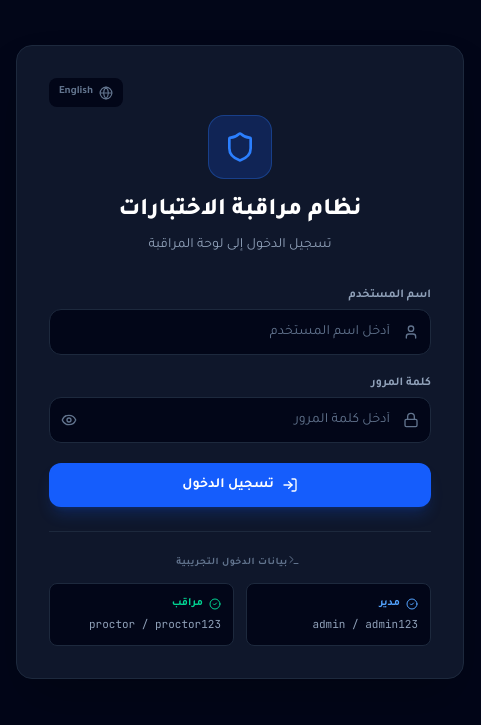
Scenario: LoginPage › shows an error on failed login
Type "wrong" into the field with placeholder "أدخل اسم المستخدم".
click(240, 332); type("wrong")  # box x1=49 y1=309 x2=431 y2=355
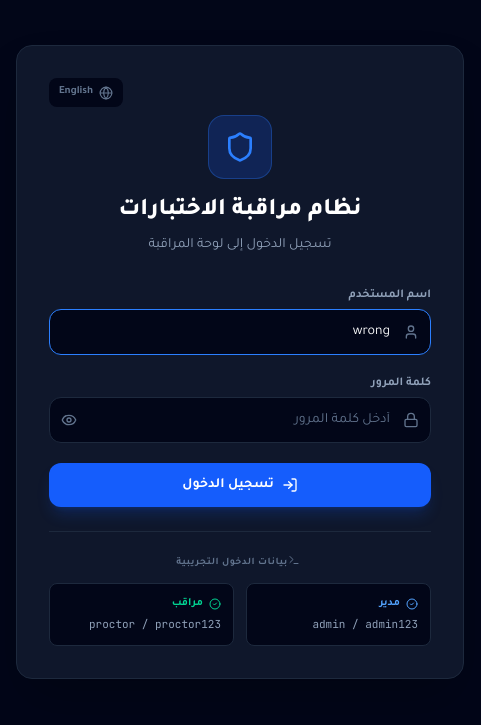
Type "wrong" into the password field with placeholder "أدخل كلمة المرور".
click(240, 420); type("wrong")  # box x1=49 y1=397 x2=431 y2=443
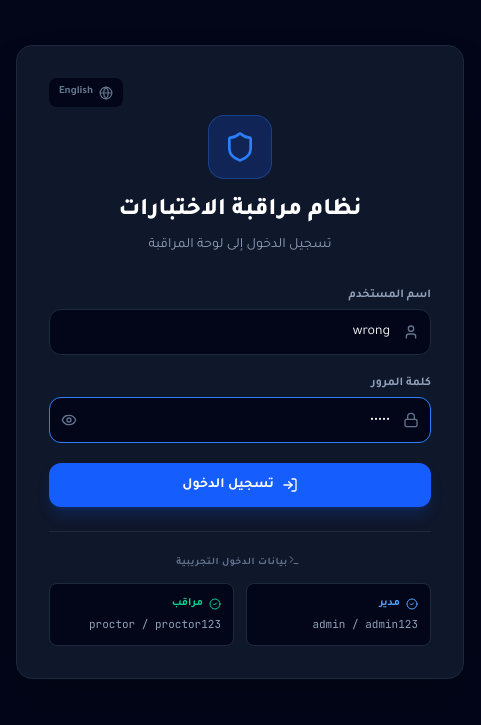
Click the button "تسجيل الدخول".
click(240, 485)  # box x1=49 y1=463 x2=431 y2=507
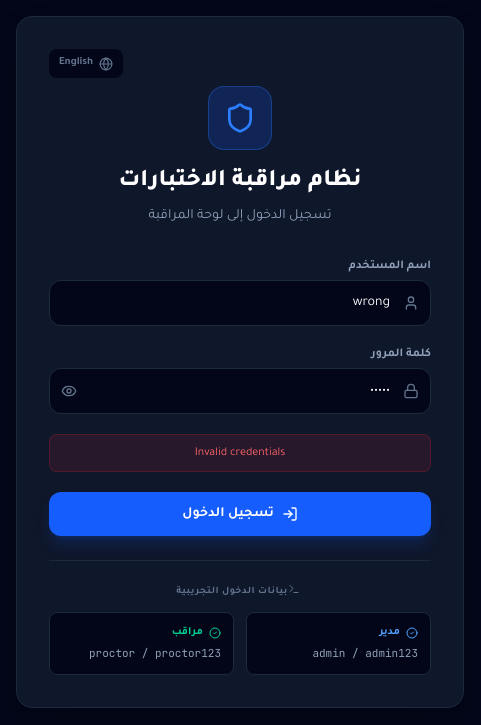
Result: the text "Invalid credentials" is shown at x1=49 y1=434 x2=431 y2=472
